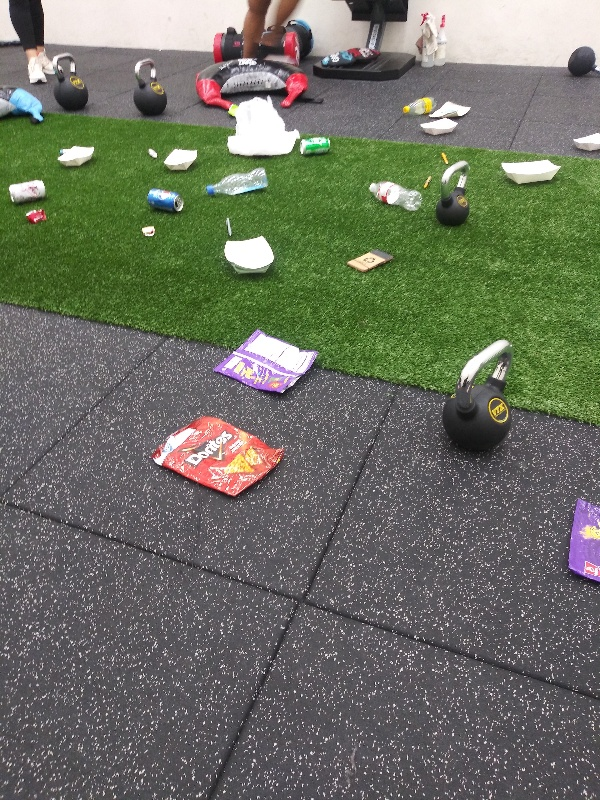bag: (153, 413, 289, 502), (210, 326, 326, 395), (567, 496, 600, 589), (426, 100, 477, 120)
bottle: (204, 164, 272, 200), (365, 178, 426, 215), (400, 92, 441, 118)
can: (8, 174, 49, 207), (144, 186, 192, 214), (299, 131, 337, 159)
plate: (220, 235, 277, 280), (497, 156, 562, 186), (160, 142, 203, 173), (55, 143, 99, 170), (415, 116, 462, 138), (569, 128, 600, 154)
